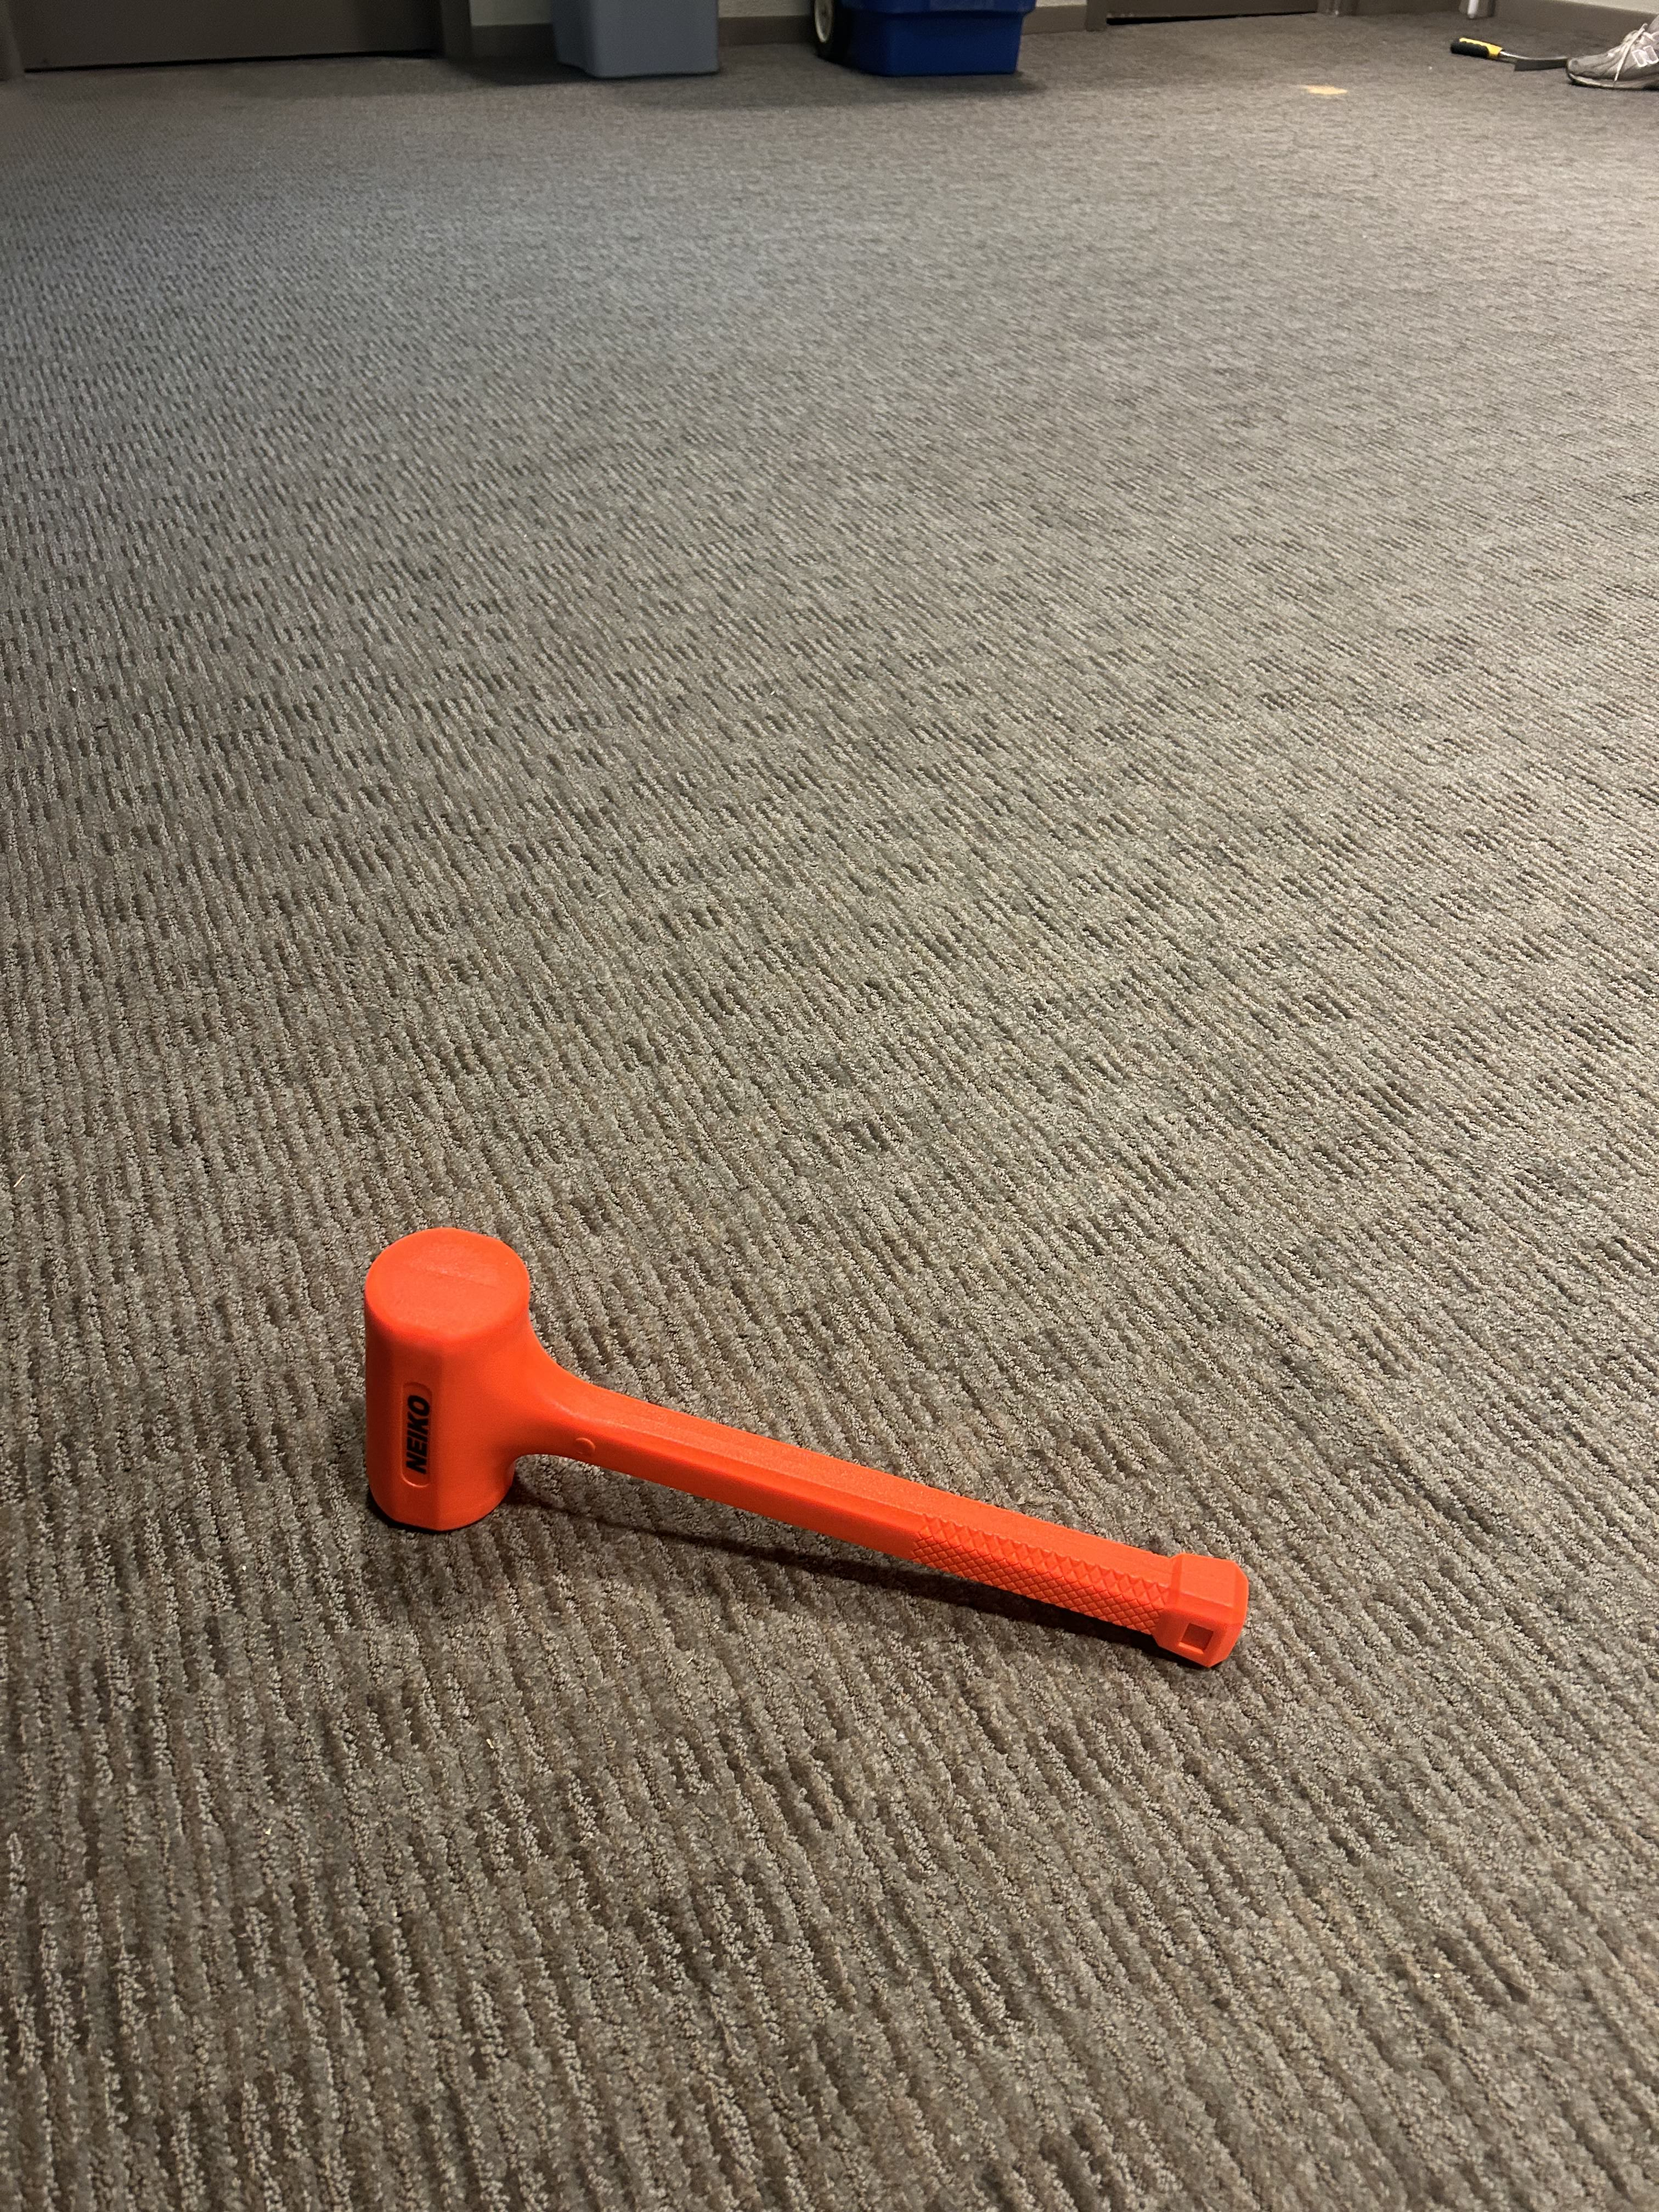Hammer: (319, 1162, 1288, 1742)
